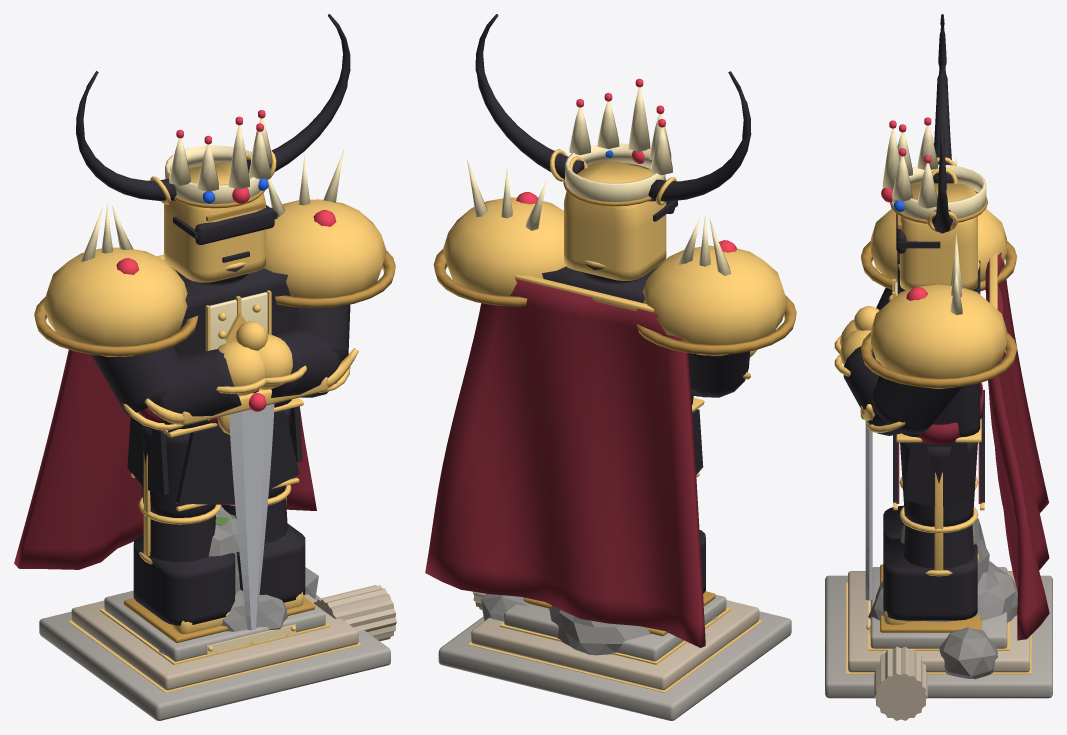
Rendered from BossCourt.glb.
3 renders of one model, left to right at view 1: azimuth 30°, elevation 25°; view 2: azimuth 150°, elevation 25°; view 3: azimuth 270°, elevation 25°, orthographic. The views are drawn at different scales.
Parts seen in each view (by area): view 1: AlterStatue__Gold_1, AlterStatue__Cloth_1, AlterStatue__Velvet_1, AlterStatue__Cloth_S1, AlterStatue__Stone_S1, AlterStatue__GoldPale_1, AlterStatue__StoneWarm_S1, AlterStatue__Steel_1, AlterStatue__GoldDeep_1, CourtColumnStump__StoneWarm_S1, CourtBoulderA__Rock_S1, AlterStatue__Gem_1 (+1 smaller); view 2: AlterStatue__Velvet_1, AlterStatue__Gold_1, AlterStatue__Stone_S1, AlterStatue__Cloth_1, AlterStatue__GoldPale_1, AlterStatue__StoneWarm_S1, AlterStatue__GoldDeep_1, CourtBoulderA__Rock_S1, AlterStatue__Gem_1; view 3: AlterStatue__Gold_1, AlterStatue__Cloth_1, AlterStatue__Velvet_1, AlterStatue__Cloth_S1, AlterStatue__Stone_S1, AlterStatue__GoldPale_1, AlterStatue__GoldDeep_1, CourtBoulderA__Rock_S1, AlterStatue__StoneWarm_S1, CourtColumnStump__StoneWarm_S1, AlterStatue__Steel_1, CourtBoulderB__Rock_S1 (+1 smaller).
Part boxes in pixels (x1,y1,x2,y2): AlterStatue__Gold_1: [43, 150, 386, 692]; AlterStatue__Cloth_1: [76, 14, 350, 504]; AlterStatue__Velvet_1: [14, 349, 316, 569]; AlterStatue__Cloth_S1: [133, 408, 305, 625]; AlterStatue__Stone_S1: [39, 590, 390, 720]; AlterStatue__GoldPale_1: [81, 118, 344, 654]; AlterStatue__StoneWarm_S1: [71, 594, 358, 690]; AlterStatue__Steel_1: [229, 404, 274, 630]; AlterStatue__GoldDeep_1: [34, 165, 395, 642]; CourtColumnStump__StoneWarm_S1: [314, 585, 396, 641]; CourtBoulderA__Rock_S1: [159, 567, 318, 655]; AlterStatue__Gem_1: [116, 110, 336, 411]; AlterStatue__Velvet_1: [425, 279, 705, 647]; AlterStatue__Gold_1: [443, 149, 787, 692]; AlterStatue__Stone_S1: [438, 595, 791, 720]; AlterStatue__Cloth_1: [475, 14, 751, 474]; AlterStatue__GoldPale_1: [467, 87, 731, 275]; AlterStatue__StoneWarm_S1: [471, 600, 759, 689]; AlterStatue__GoldDeep_1: [433, 163, 796, 636]; CourtBoulderA__Rock_S1: [481, 594, 717, 655]; AlterStatue__Gem_1: [516, 78, 736, 252]; AlterStatue__Gold_1: [834, 157, 1031, 674]; AlterStatue__Cloth_1: [843, 14, 984, 506]; AlterStatue__Velvet_1: [896, 252, 1049, 640]; AlterStatue__Cloth_S1: [883, 442, 977, 620]; AlterStatue__Stone_S1: [825, 567, 1052, 698]; AlterStatue__GoldPale_1: [869, 125, 986, 633]; AlterStatue__GoldDeep_1: [861, 191, 1016, 632]; CourtBoulderA__Rock_S1: [868, 561, 1017, 679]; AlterStatue__StoneWarm_S1: [848, 571, 1029, 672]; CourtColumnStump__StoneWarm_S1: [874, 646, 927, 720]; AlterStatue__Steel_1: [865, 421, 872, 600]; CourtBoulderB__Rock_S1: [900, 518, 989, 583].
Size of the model in its own units: 24.56 by 42.46 by 15.
